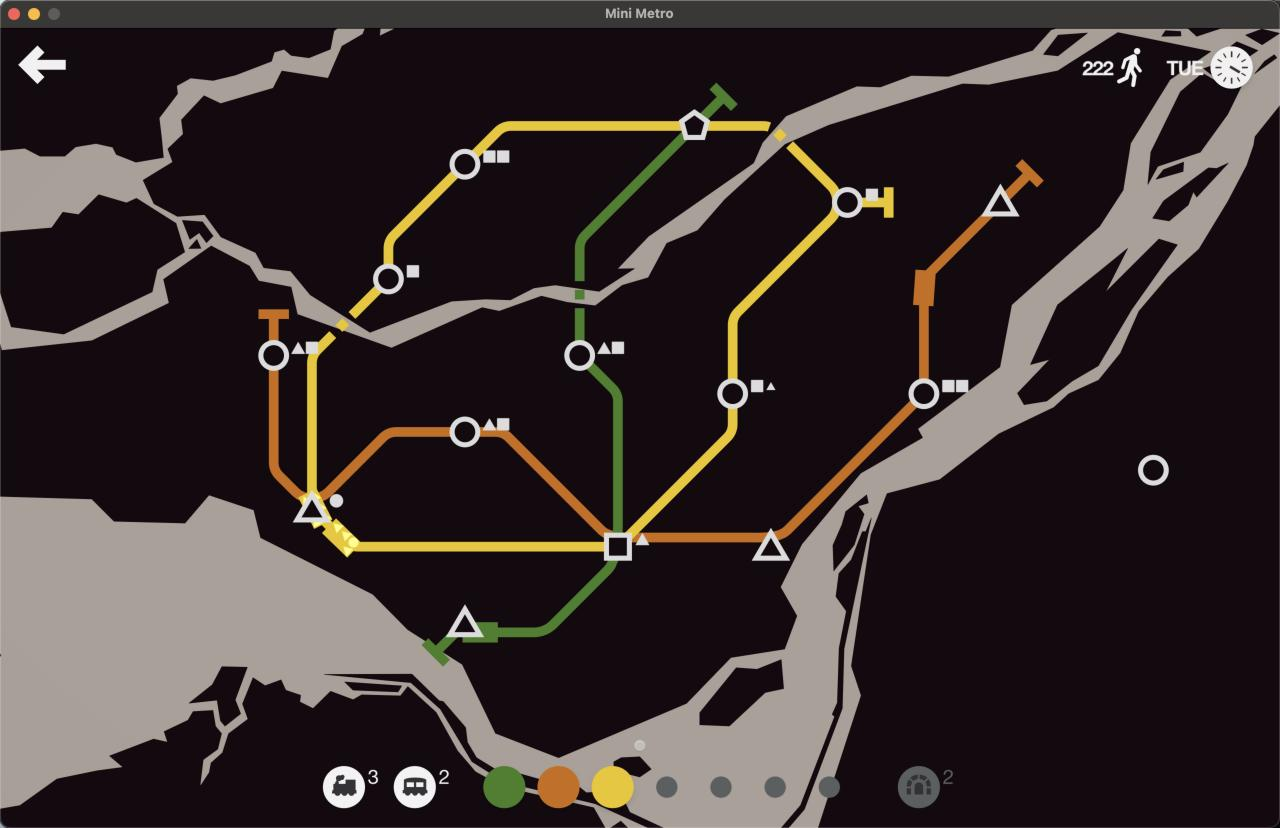CIRCLE: (716, 377, 750, 410), (372, 262, 405, 295), (907, 377, 940, 410), (832, 185, 864, 218), (563, 339, 596, 371), (449, 148, 481, 180), (449, 416, 481, 448), (257, 340, 289, 371), (1139, 456, 1169, 485)
PENTAGON: (678, 109, 710, 142)
SQUARE: (604, 534, 632, 561)
TRIANGLE: (751, 525, 792, 562), (444, 603, 486, 639), (981, 183, 1022, 218), (293, 490, 331, 525)
